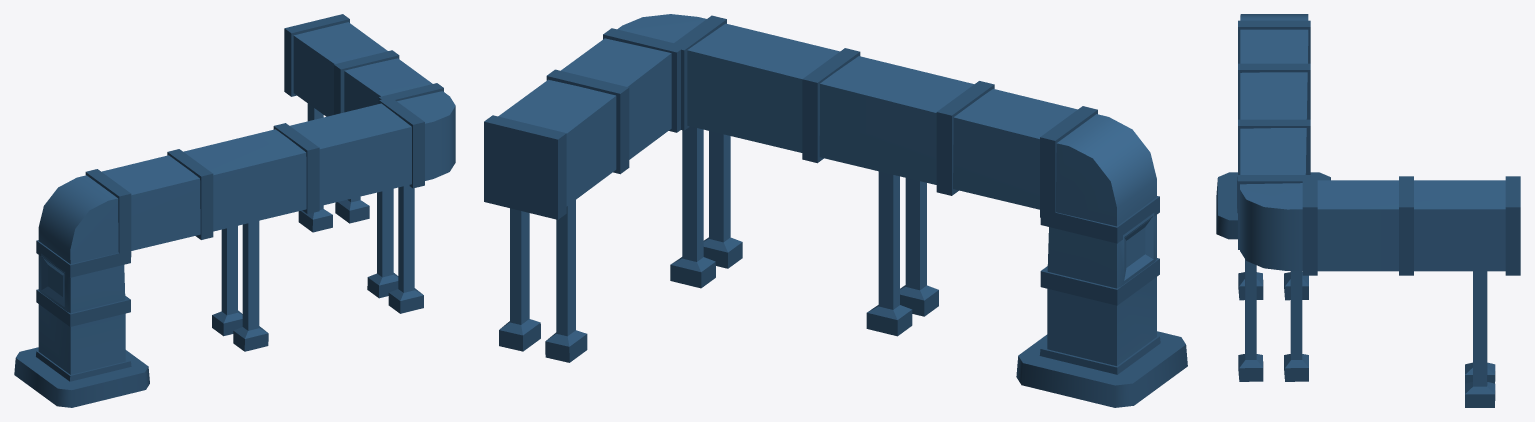
Rendered from Vent_2_C_7.fbx.
The picture shows the model from 3 angles, left to right: view 1: azimuth 30°, elevation 25°; view 2: azimuth 150°, elevation 25°; view 3: azimuth 270°, elevation 25°; orthographic projection. The views are drawn at different scales.
Parts seen in each view (by area): view 1: Vent_2_C_7; view 2: Vent_2_C_7; view 3: Vent_2_C_7.
Boxes of the visible parts, bbox=[...] form: Vent_2_C_7: bbox=[14, 14, 455, 407]; Vent_2_C_7: bbox=[484, 14, 1187, 407]; Vent_2_C_7: bbox=[1216, 14, 1520, 407].
Bounding box in the file's own units: 257 × 111 × 149.
